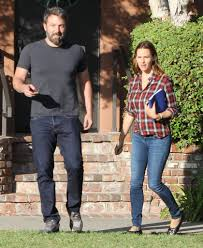Bad: (11, 7, 184, 236)
